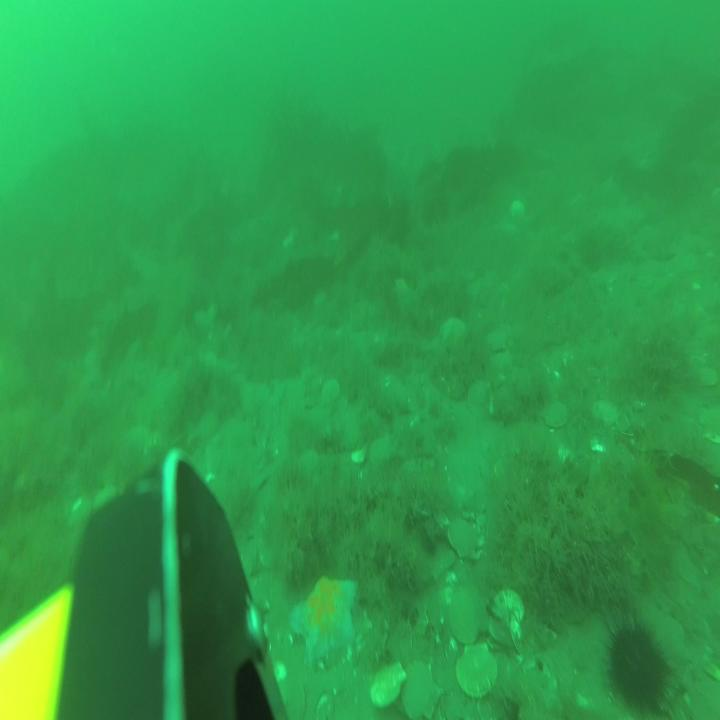echinus: (598, 591, 680, 720)
scallop: (446, 582, 489, 647), (452, 640, 499, 699), (400, 661, 442, 720), (489, 589, 525, 651), (370, 657, 407, 710), (446, 516, 480, 563), (367, 432, 398, 470), (541, 396, 569, 430), (297, 445, 319, 485), (465, 379, 492, 411), (592, 399, 619, 429), (321, 376, 341, 410), (484, 329, 509, 356)
starfish: (288, 574, 362, 670), (440, 312, 468, 348)
